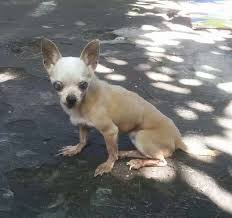Chihuahua: (28, 27, 201, 189)
